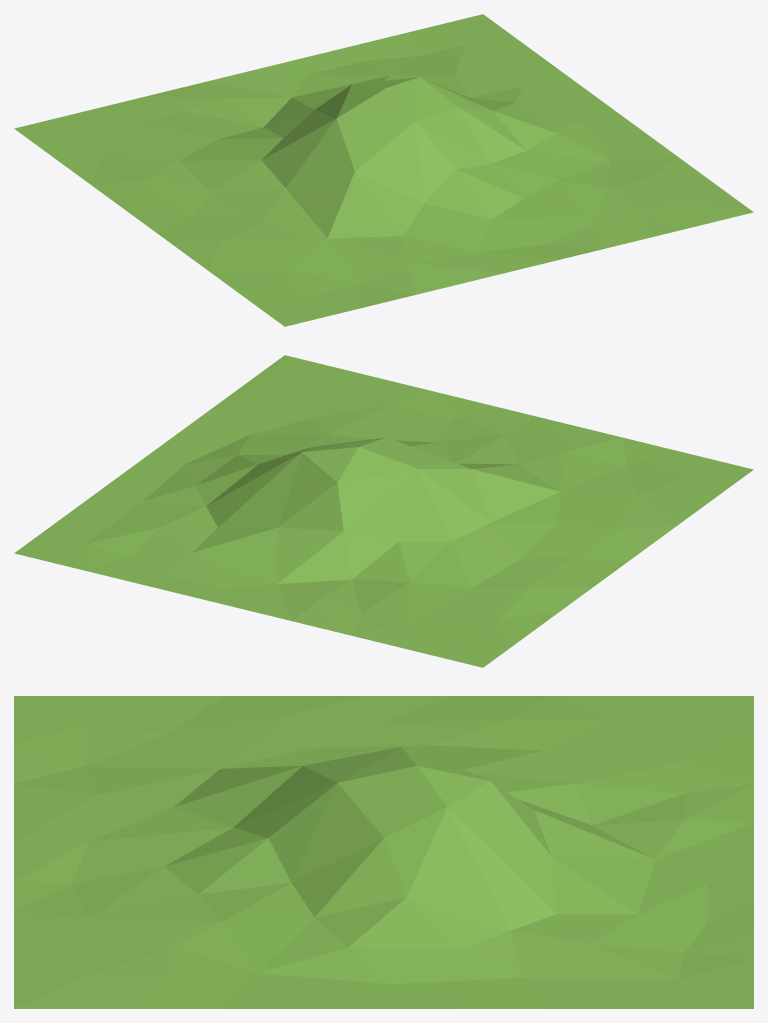
File: MT_Terrain_S_a_10_LOD.fbx
3 views of the same model, one above another, from view 1: azimuth 30°, elevation 25°; view 2: azimuth 150°, elevation 25°; view 3: azimuth 270°, elevation 25° (orthographic). The views are drawn at different scales.
Visible parts, largest first — view 1: MT_Terrain_S_a_10_LOD0; view 2: MT_Terrain_S_a_10_LOD0; view 3: MT_Terrain_S_a_10_LOD0.
Part boxes in pixels (<box>): MT_Terrain_S_a_10_LOD0: <box>14,14,753,326</box>; MT_Terrain_S_a_10_LOD0: <box>14,355,753,667</box>; MT_Terrain_S_a_10_LOD0: <box>14,696,753,1008</box>.
Size of what is drawn, in the model's own units: 2500 by 365 by 2500.
